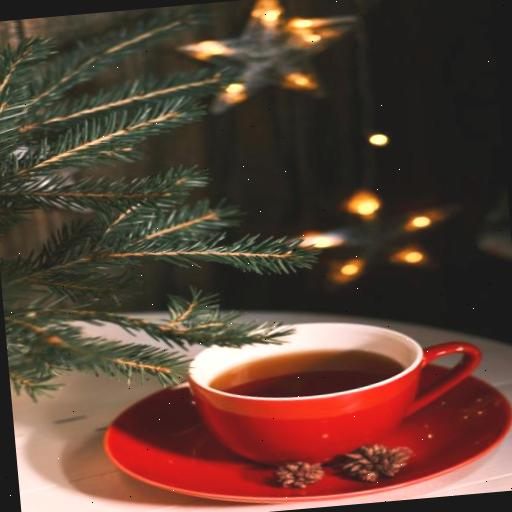cup: (186, 308, 492, 478)
